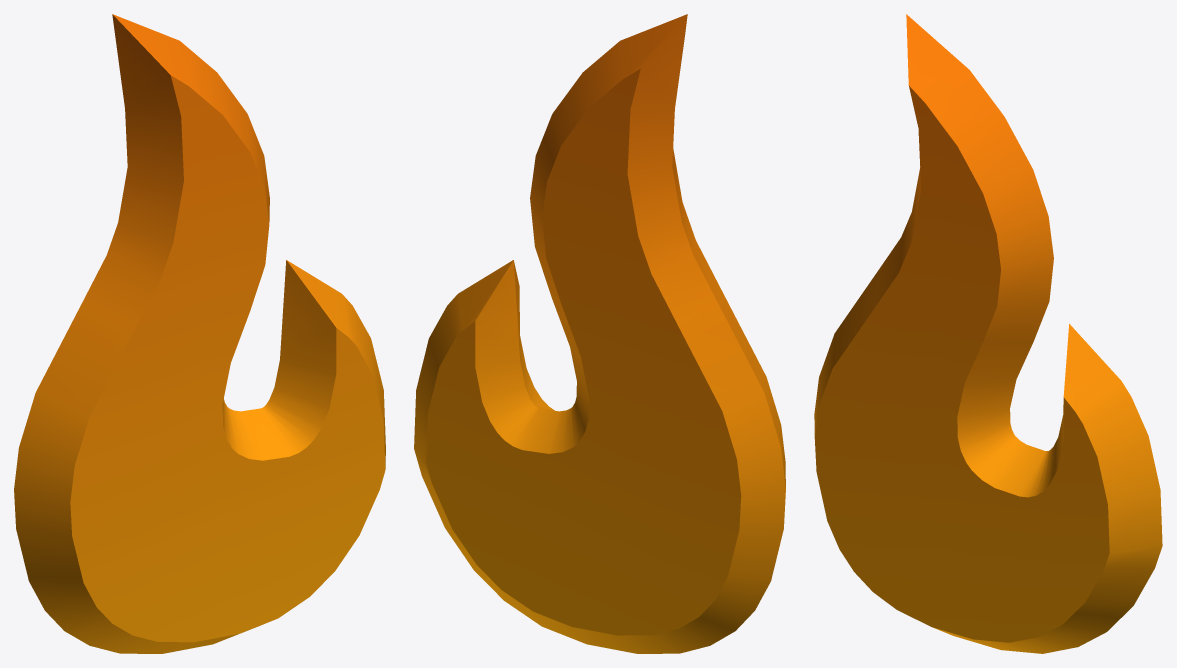
File: FlameShape06.fbx
3 renders of one model, left to right at view 1: azimuth 30°, elevation 25°; view 2: azimuth 150°, elevation 25°; view 3: azimuth 330°, elevation 25°, orthographic. The views are drawn at different scales.
Parts seen in each view (by area): view 1: FlameShape06; view 2: FlameShape06; view 3: FlameShape06.
Boxes of the visible parts, <box> form: FlameShape06: <box>14,14,385,653</box>; FlameShape06: <box>414,14,785,653</box>; FlameShape06: <box>814,14,1162,653</box>.
Size of the model in its own units: 53.76 by 90.46 by 11.09.
Materials: 1 (1 with a texture image).
